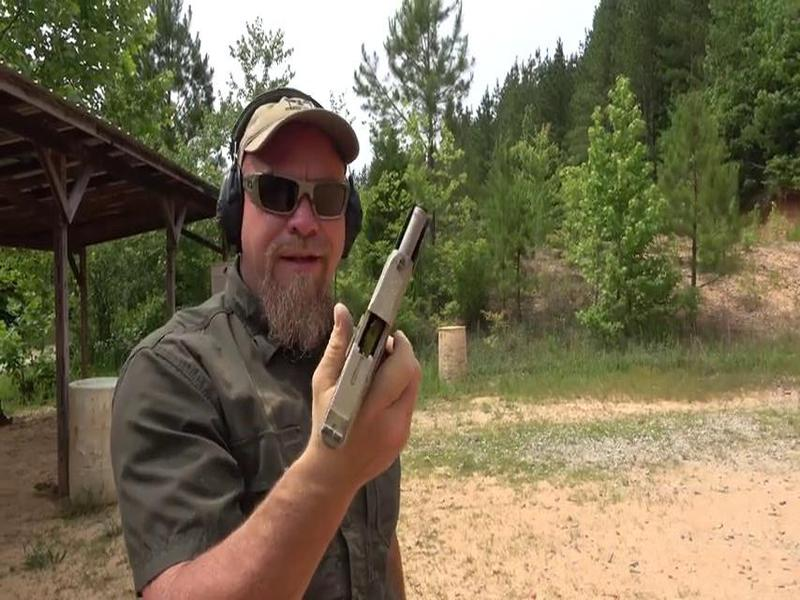Pistola: (318, 215, 451, 472)
